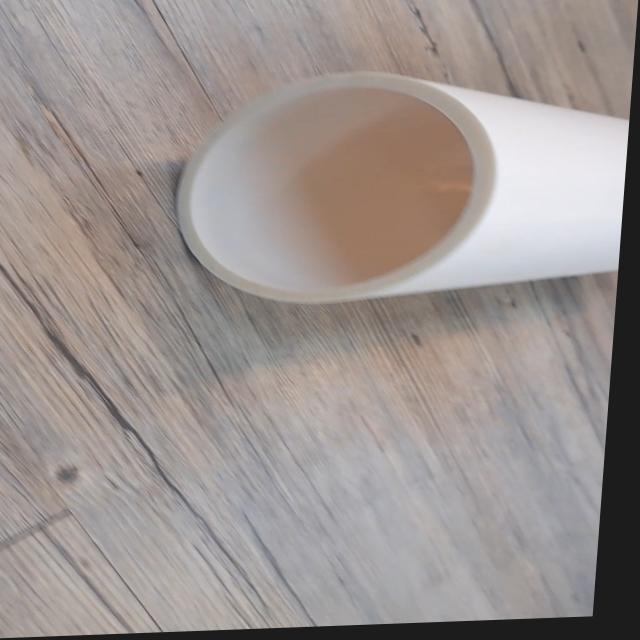CORAL: (144, 6, 638, 370)
